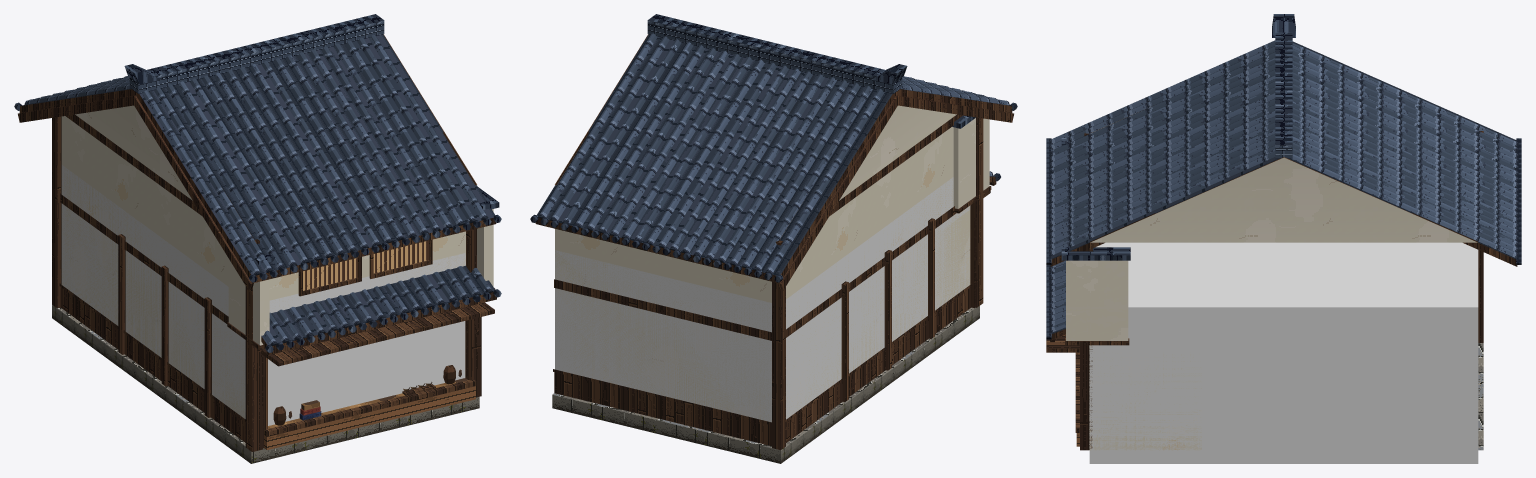
The model's file is JP_Row_Shop_B_L.glb.
3 renders of one model, left to right at view 1: azimuth 30°, elevation 25°; view 2: azimuth 150°, elevation 25°; view 3: azimuth 270°, elevation 25°, orthographic.
Parts seen in each view (by area): view 1: JP_Row_Shop_B_L, COL_JP_Row_Shop_B_L; view 2: JP_Row_Shop_B_L, COL_JP_Row_Shop_B_L; view 3: JP_Row_Shop_B_L, COL_JP_Row_Shop_B_L.
Part boxes in pixels (x1,y1,x2,y2): JP_Row_Shop_B_L: (14,14,501,463); COL_JP_Row_Shop_B_L: (61,165,465,425); JP_Row_Shop_B_L: (530,14,1017,463); COL_JP_Row_Shop_B_L: (555,177,970,422); JP_Row_Shop_B_L: (1046,14,1521,450); COL_JP_Row_Shop_B_L: (1089,242,1478,463).
Size of the model in its own units: 6.93 by 8.36 by 11.
Materials: 16 (16 with a texture image).
